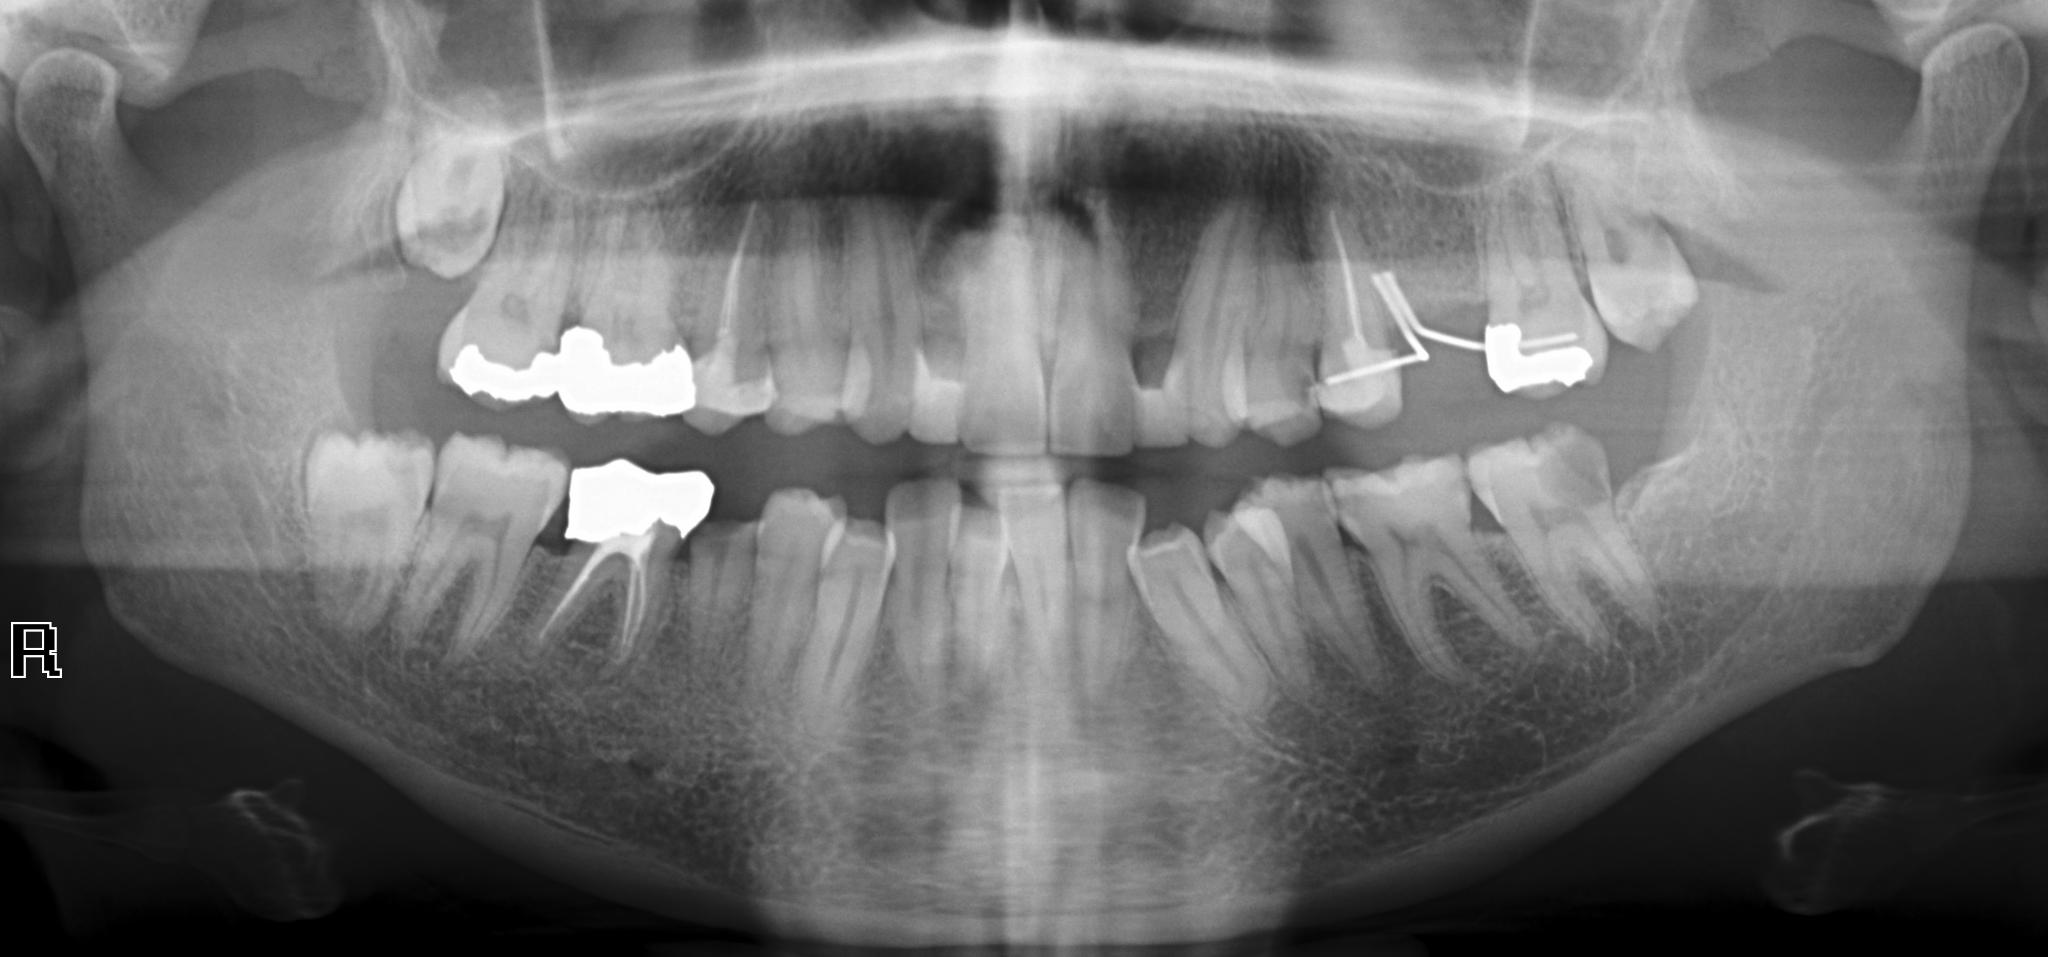Fillings: (1475, 165, 1609, 400), (556, 200, 694, 426)
Implant: (532, 454, 703, 678)
